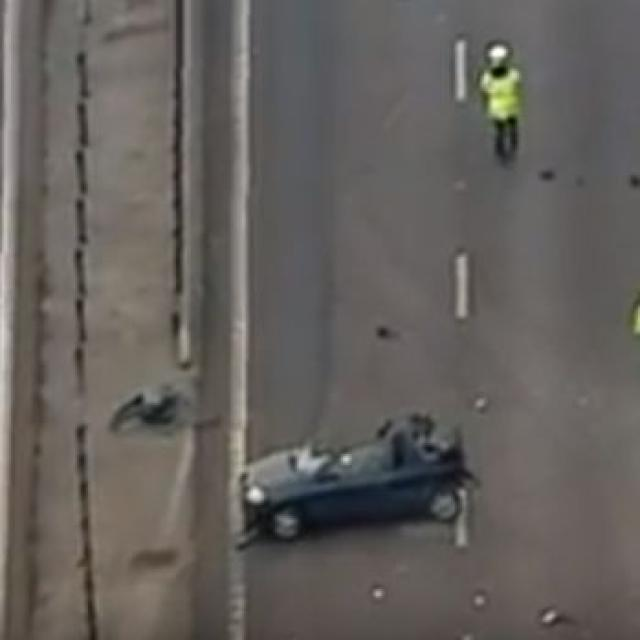traffic_incident: (235, 406, 468, 540)
